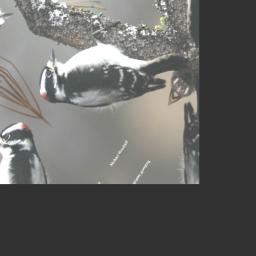Woodpecker: (28, 0, 191, 167)
